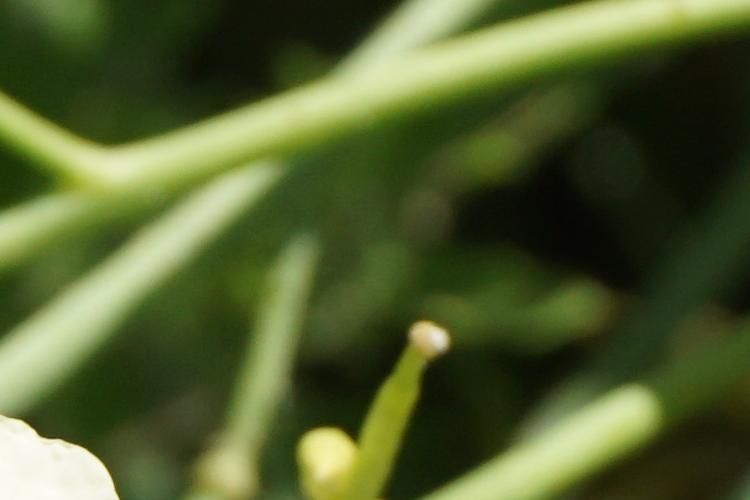pod: (304, 304, 466, 475)
